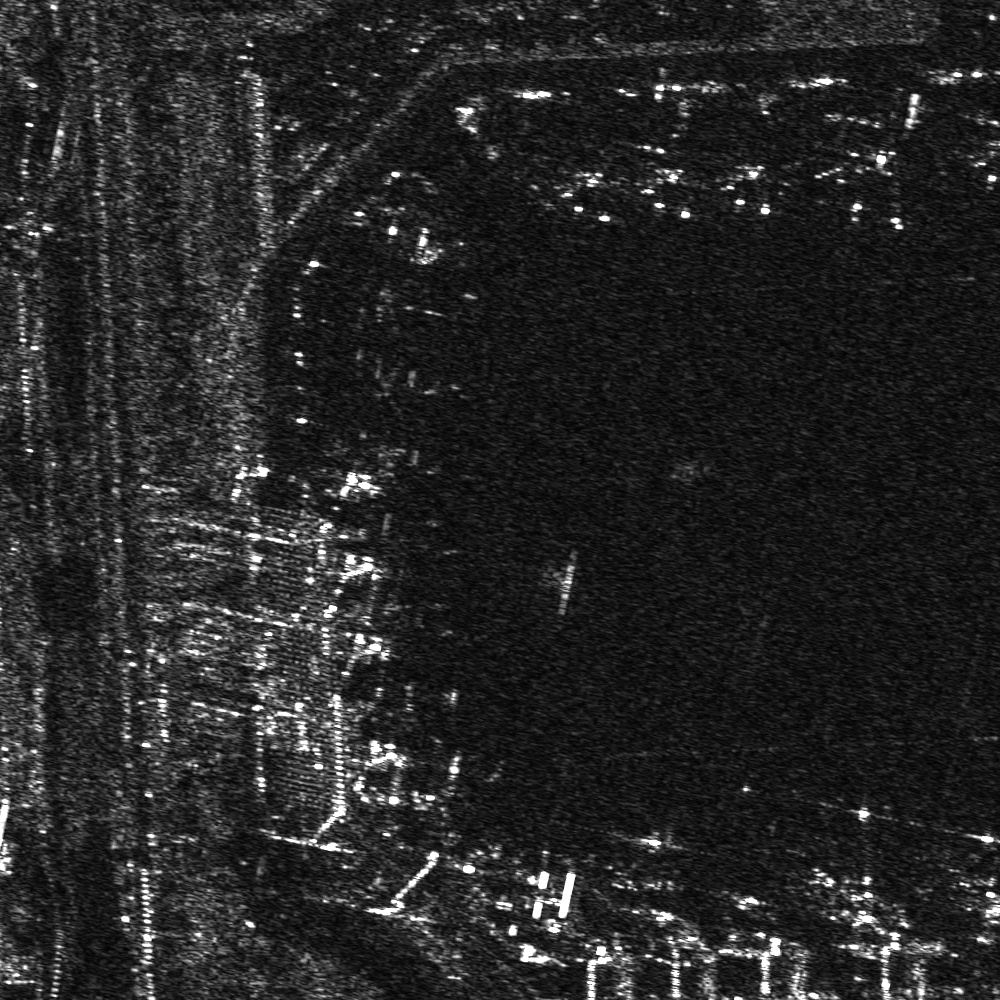A220: (585, 817, 696, 905)
A320/321: (783, 791, 896, 906)
Boeing737: (630, 163, 706, 224), (720, 159, 792, 216), (553, 169, 624, 223), (970, 116, 999, 195)
other: (813, 136, 947, 231)
